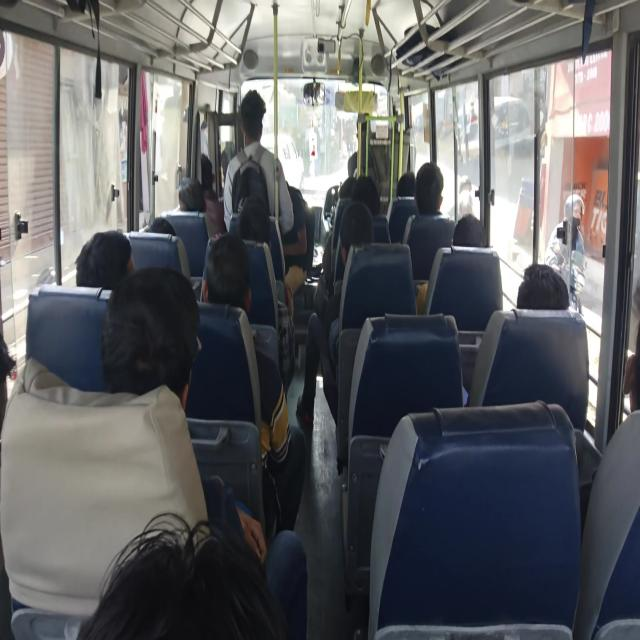person: (100, 265, 308, 637), (200, 232, 306, 533), (76, 504, 307, 639), (466, 262, 589, 430), (296, 200, 374, 425), (101, 265, 201, 411), (222, 88, 294, 239), (416, 213, 488, 314), (402, 161, 454, 281), (544, 192, 587, 312), (75, 229, 134, 289), (516, 262, 569, 310), (415, 160, 444, 216), (452, 213, 487, 247), (176, 177, 205, 211), (396, 171, 416, 197)
